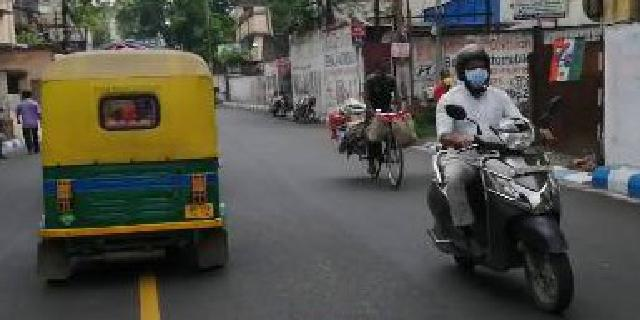Autorickshaw: (34, 48, 233, 280)
Cycle: (351, 71, 415, 193)
Motorbike: (419, 42, 583, 314)
